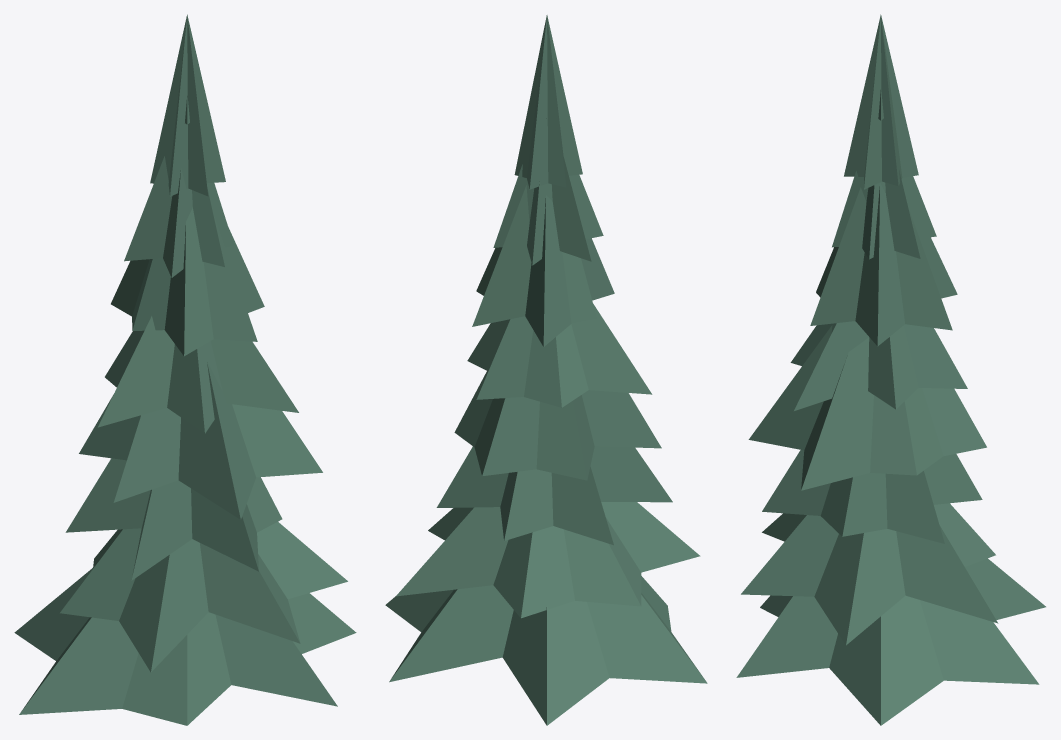
Rendered from norway_spruce_young.glb.
3 views of the same model, side by side, from view 1: azimuth 30°, elevation 25°; view 2: azimuth 150°, elevation 25°; view 3: azimuth 270°, elevation 25° (orthographic). The views are drawn at different scales.
Visible parts, largest first — view 1: spruce-young; view 2: spruce-young; view 3: spruce-young.
Boxes of the visible parts, x1,y1,x2,y2 form: spruce-young: [14, 14, 356, 725]; spruce-young: [385, 15, 707, 725]; spruce-young: [736, 14, 1045, 725].
Bounding box in the file's own units: 1.84 × 3.43 × 1.52.
